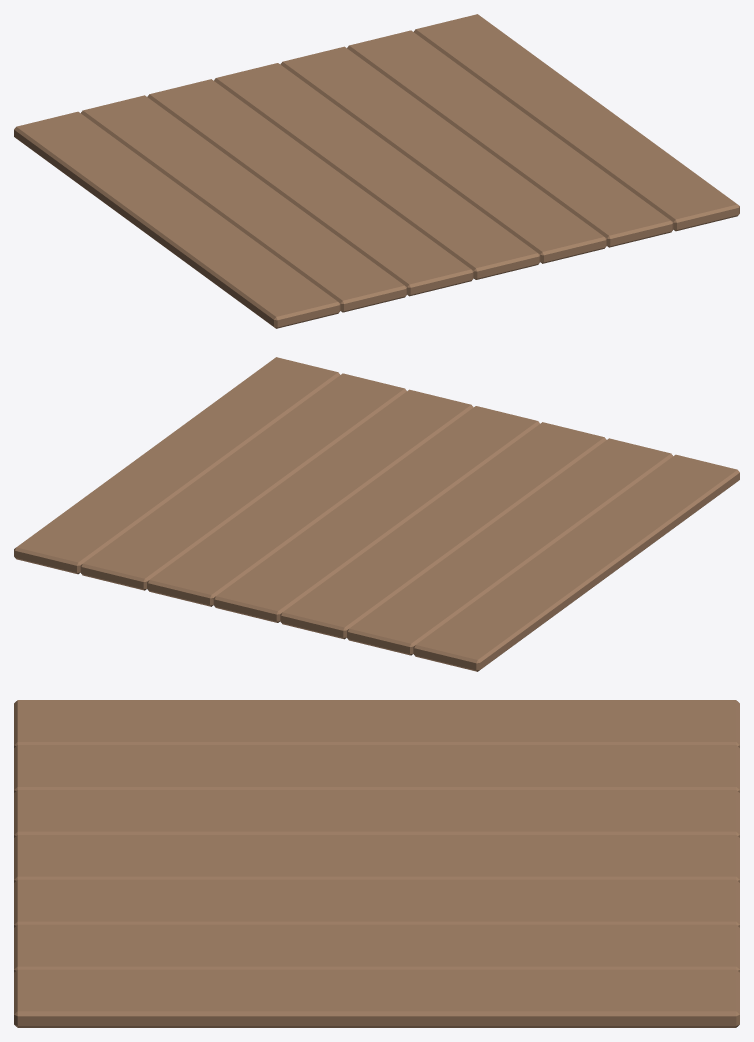
The model's file is BedRoom_Floor_board.fbx.
The picture shows the model from 3 angles, top to bottom: view 1: azimuth 30°, elevation 25°; view 2: azimuth 150°, elevation 25°; view 3: azimuth 270°, elevation 25°; orthographic projection. The views are drawn at different scales.
Visible parts, largest first — view 1: Floor board; view 2: Floor board; view 3: Floor board.
Boxes of the visible parts, x1=… form: Floor board: x1=14, y1=14, x2=739, y2=328; Floor board: x1=14, y1=357, x2=739, y2=671; Floor board: x1=14, y1=700, x2=739, y2=1027.
Bounding box in the file's own units: 205 × 5 × 200.
